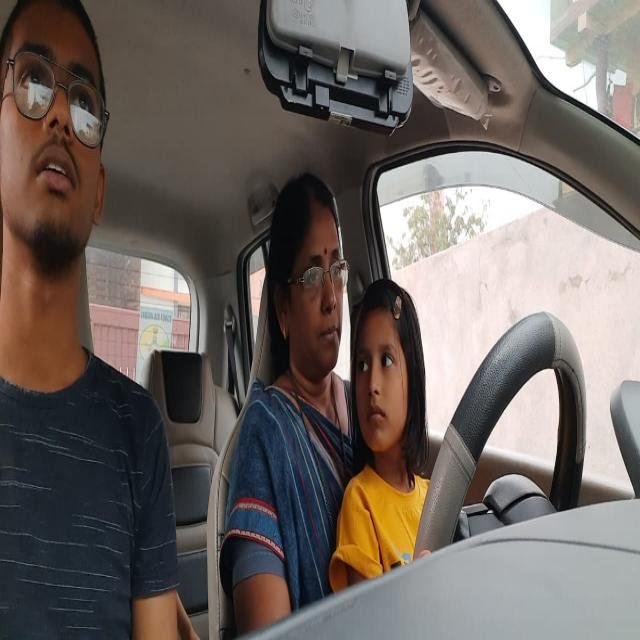child: (348, 281, 418, 474)
person: (0, 0, 120, 293), (266, 165, 347, 378)
